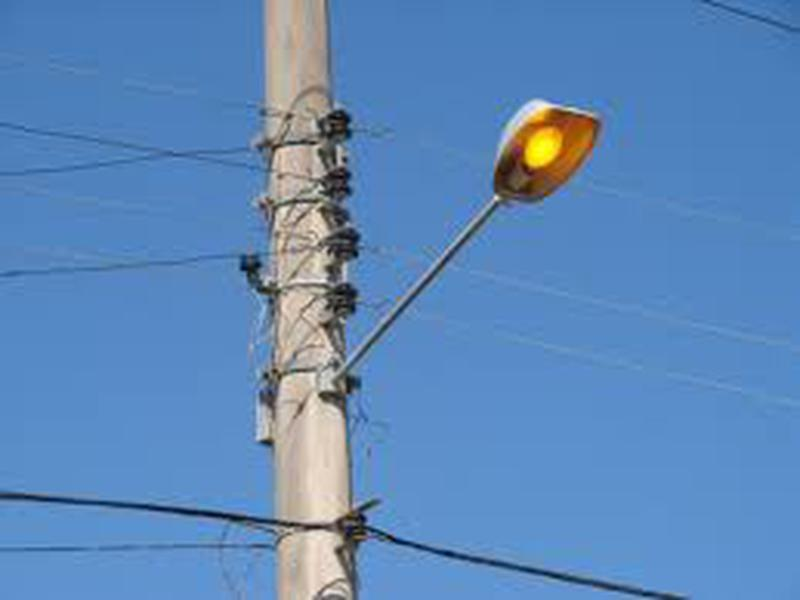IP: (374, 90, 628, 363)
